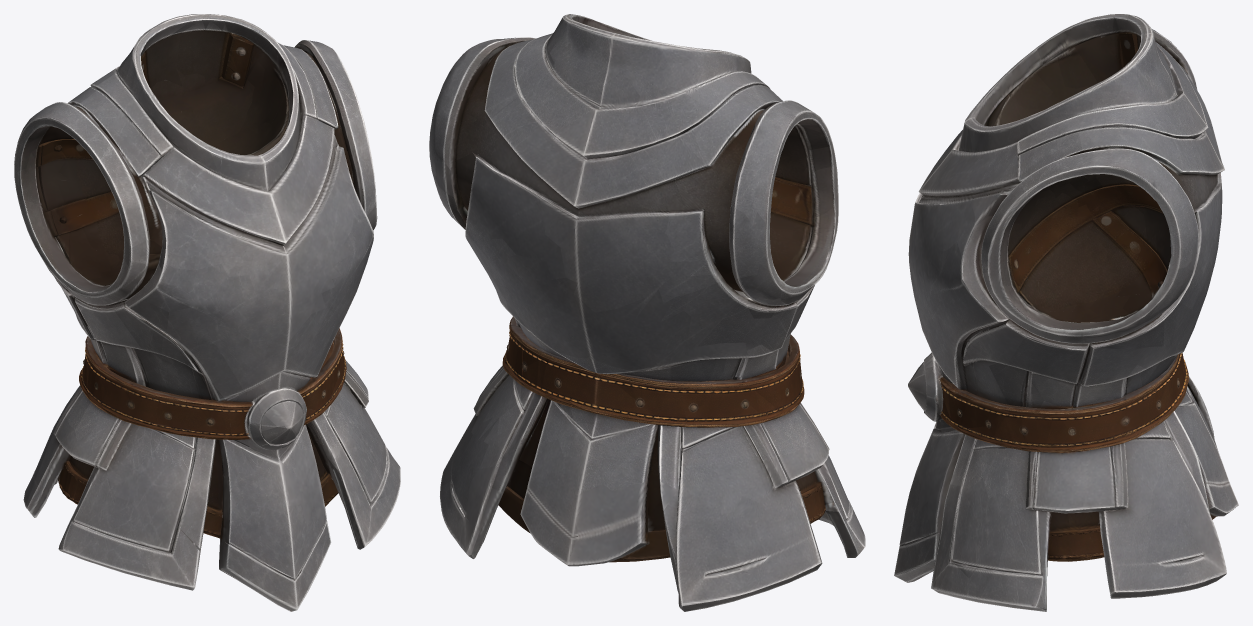
The model's file is Meshy_AI_steel_chestplate_clea_1105032415_texture.glb.
3 renders of one model, left to right at view 1: azimuth 30°, elevation 25°; view 2: azimuth 150°, elevation 25°; view 3: azimuth 270°, elevation 25°, orthographic. The views are drawn at different scales.
Parts seen in each view (by area): view 1: output_unwrapped; view 2: output_unwrapped; view 3: output_unwrapped.
Boxes of the visible parts, box(x1,y1,x2,y2) form: output_unwrapped: box(14, 14, 400, 611); output_unwrapped: box(429, 14, 865, 611); output_unwrapped: box(894, 14, 1238, 611).
Bounding box in the file's own units: 1.31 × 1.9 × 1.08.
Materials: 1 (1 with a texture image).
